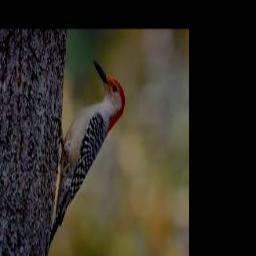Woodpecker: (48, 60, 126, 247)
